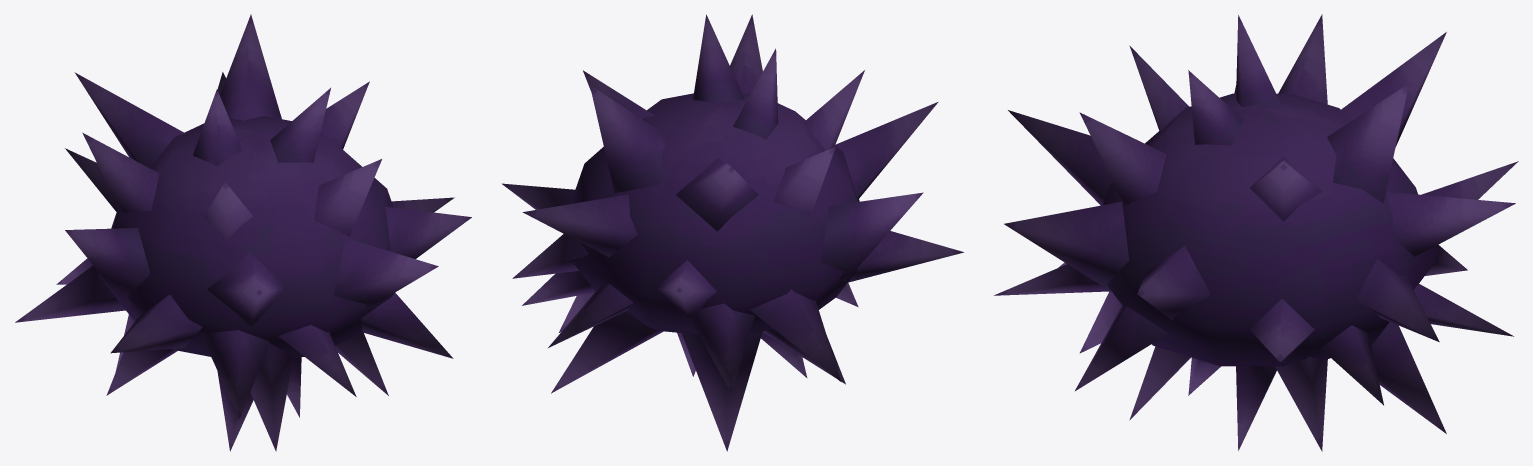
Rendered from throw10200002.fbx.
3 views of the same model, side by side, from view 1: azimuth 30°, elevation 25°; view 2: azimuth 150°, elevation 25°; view 3: azimuth 270°, elevation 25° (orthographic). The views are drawn at different scales.
Parts seen in each view (by area): view 1: throw10200002_m; view 2: throw10200002_m; view 3: throw10200002_m.
Part boxes in pixels (x1,y1,x2,y2): throw10200002_m: (15,14,471,451); throw10200002_m: (502,14,963,451); throw10200002_m: (994,14,1518,451).
Bounding box in the file's own units: 0.2986 × 0.2454 × 0.2983.
